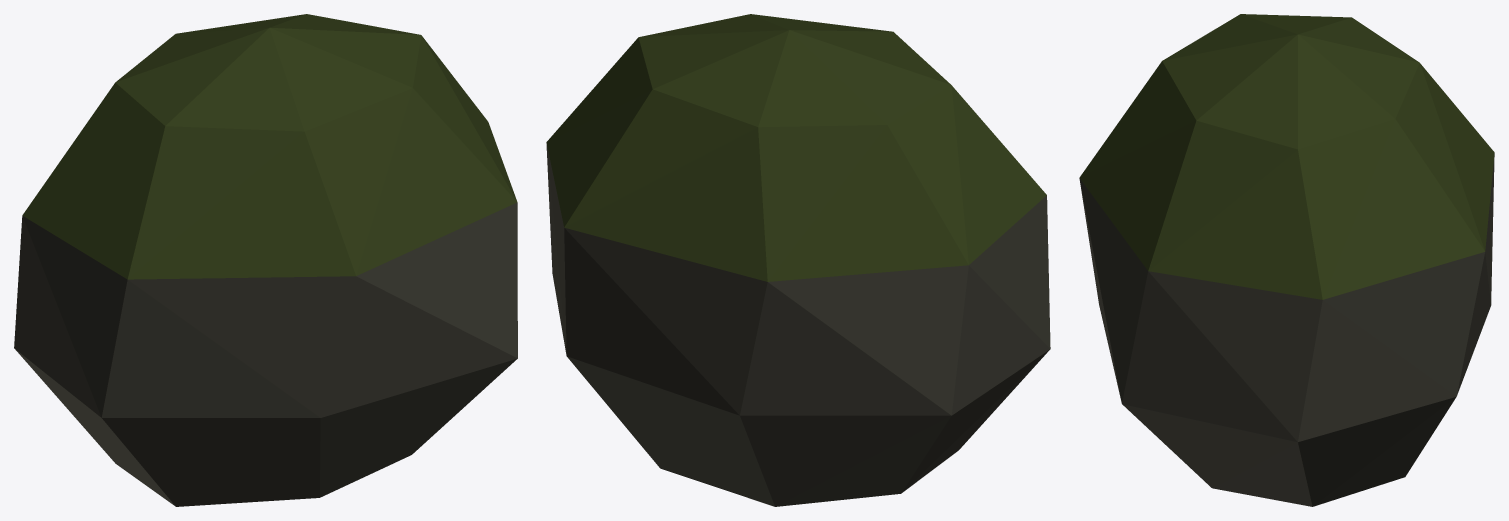
The model's file is Rock_MossyBoulder_02.fbx.
3 views of the same model, side by side, from view 1: azimuth 30°, elevation 25°; view 2: azimuth 150°, elevation 25°; view 3: azimuth 270°, elevation 25° (orthographic). The views are drawn at different scales.
Visible parts, largest first — view 1: Rock_MossyBoulder_02_Mesh; view 2: Rock_MossyBoulder_02_Mesh; view 3: Rock_MossyBoulder_02_Mesh.
Part boxes in pixels (x1=…): Rock_MossyBoulder_02_Mesh: x1=14, y1=14, x2=517, y2=506; Rock_MossyBoulder_02_Mesh: x1=546, y1=14, x2=1050, y2=506; Rock_MossyBoulder_02_Mesh: x1=1079, y1=14, x2=1494, y2=506.
Size of the model in its own units: 2.15 by 2.1 by 1.76.
1 material, 1 textured.
